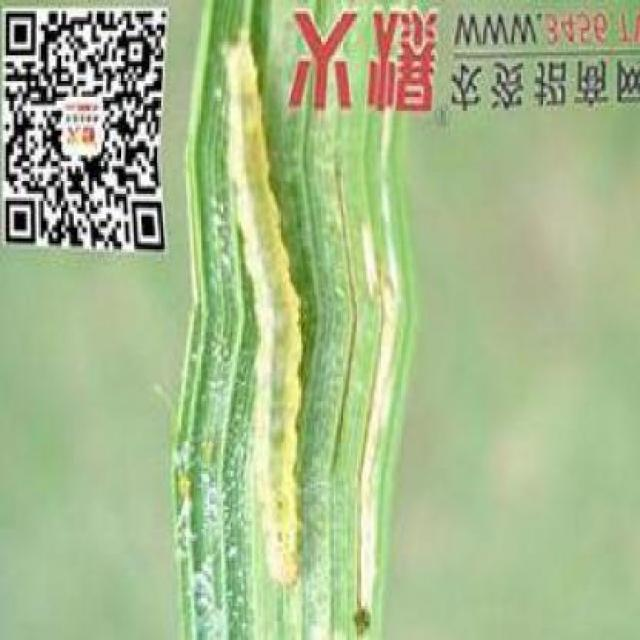leaf-folder: (214, 25, 295, 577)
